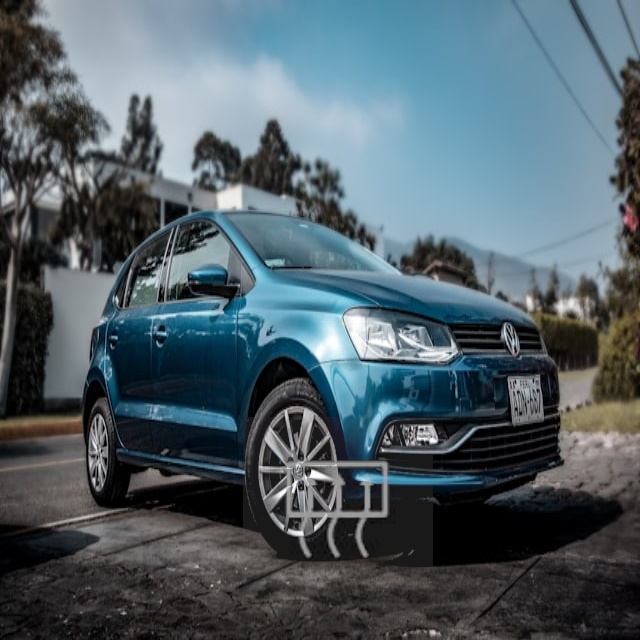symbol: (243, 417, 433, 607)
